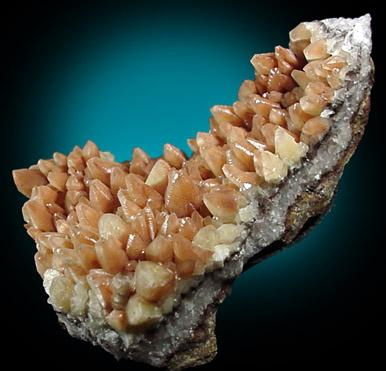calcite: (13, 23, 350, 332)
